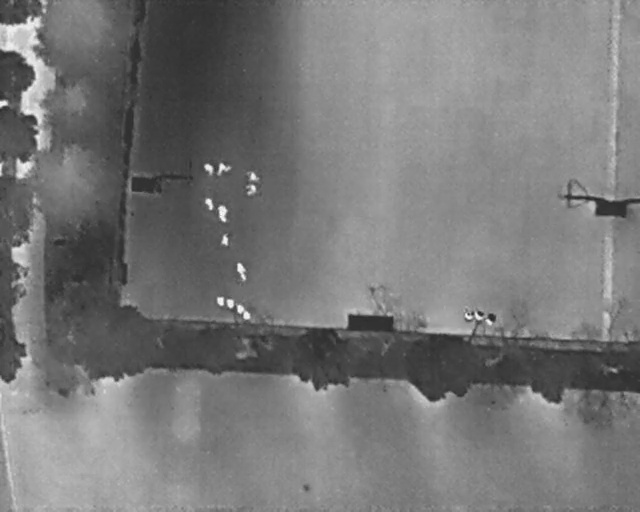Person: (232, 259, 250, 284), (213, 159, 234, 179), (215, 203, 230, 225), (201, 160, 218, 179), (202, 196, 217, 213), (243, 184, 259, 196), (246, 170, 260, 183), (220, 234, 230, 247)
